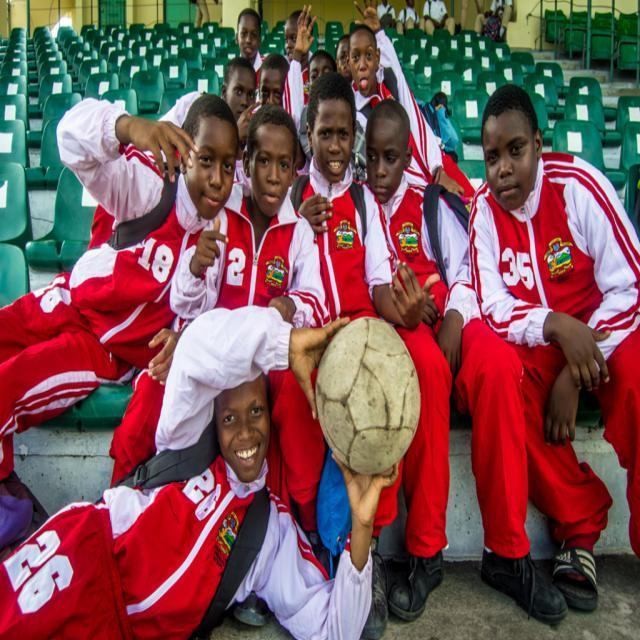football: (312, 316, 424, 476)
